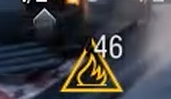1fire: (54, 61, 127, 95)
